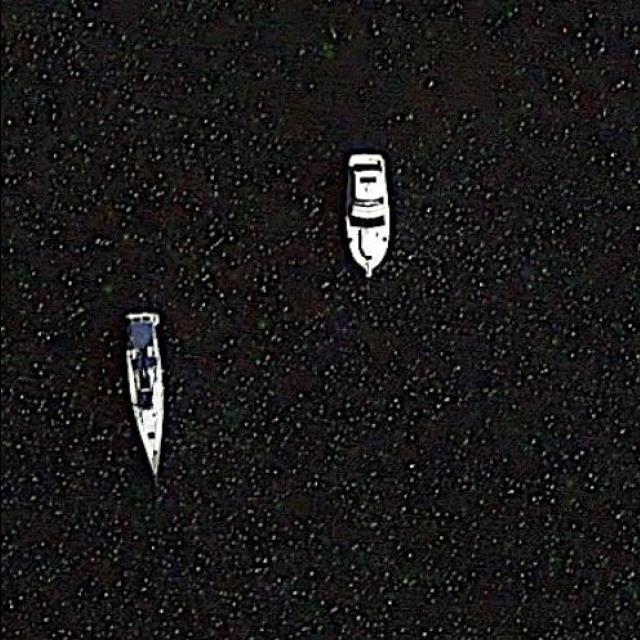ship: (122, 310, 168, 482), (343, 152, 391, 282)
